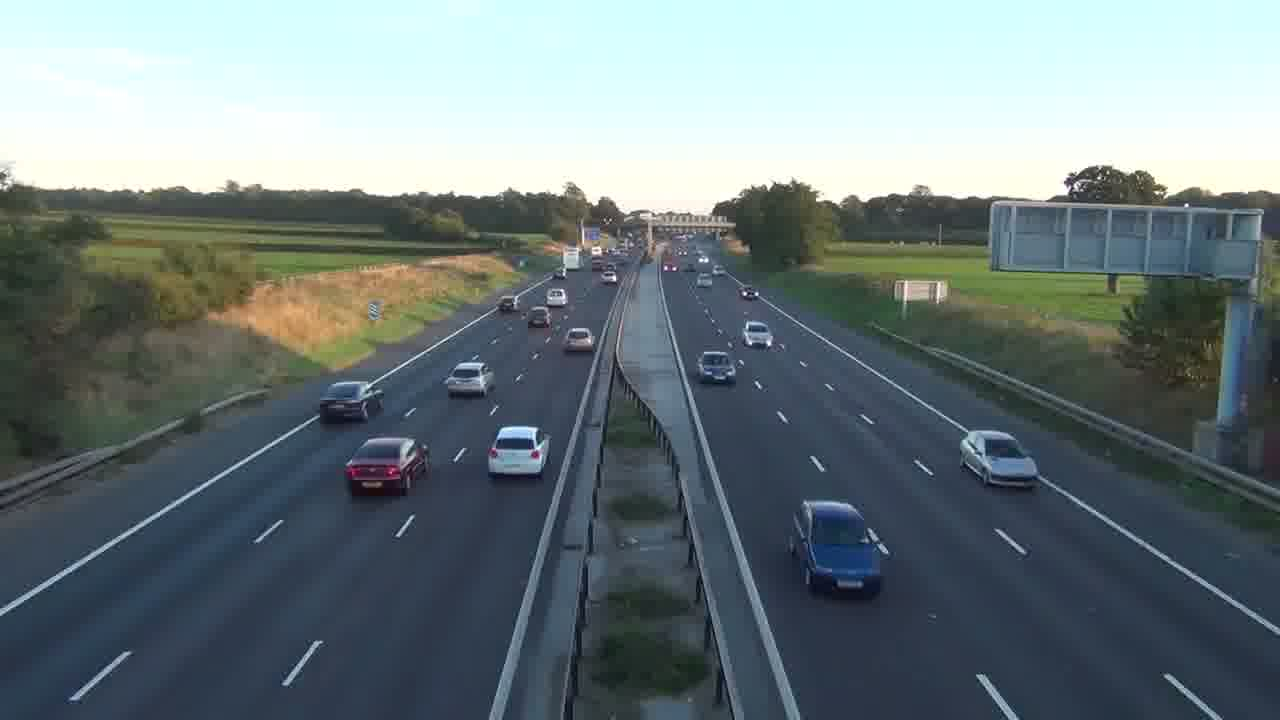car: (788, 499, 894, 598), (344, 435, 431, 496), (959, 428, 1040, 489), (487, 425, 551, 479), (319, 379, 385, 423), (443, 359, 495, 398), (696, 350, 738, 384), (743, 319, 773, 349), (561, 327, 594, 353)
